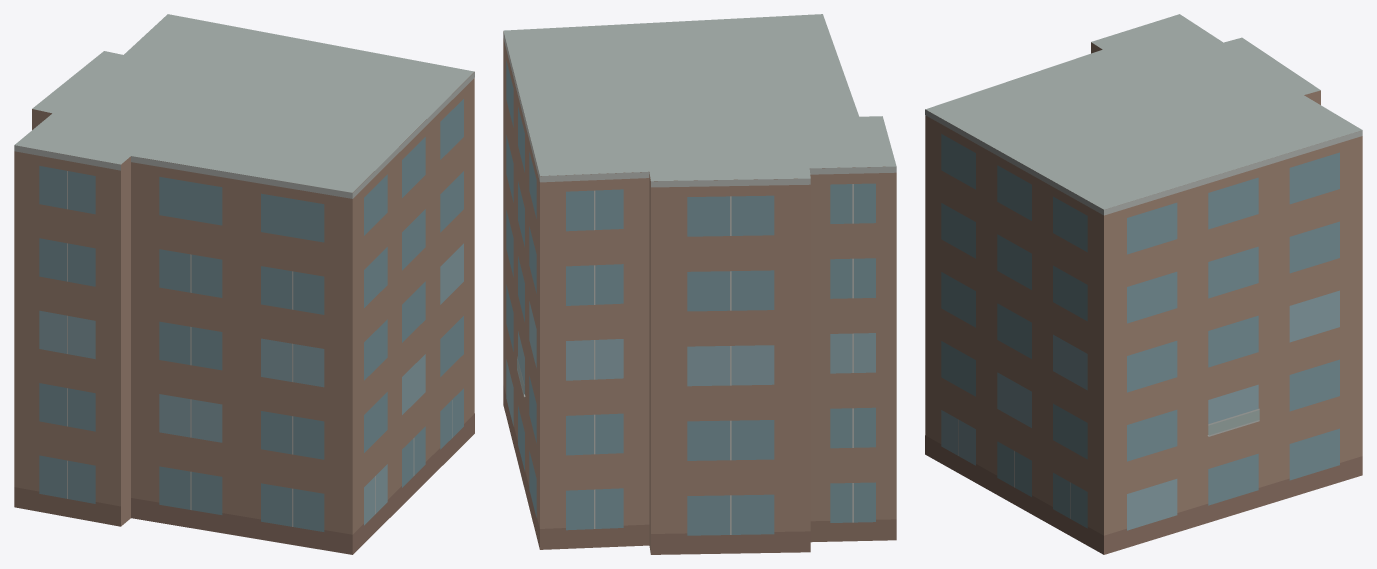
File: survey-upis-32819558.glb
3 renders of one model, left to right at view 1: azimuth 30°, elevation 25°; view 2: azimuth 150°, elevation 25°; view 3: azimuth 270°, elevation 25°, orthographic. The views are drawn at different scales.
Parts seen in each view (by area): view 1: survey-upis-32819558.tmp; view 2: survey-upis-32819558.tmp; view 3: survey-upis-32819558.tmp.
Part boxes in pixels (x1,y1,x2,y2): survey-upis-32819558.tmp: (14,14,474,554); survey-upis-32819558.tmp: (503,14,896,554); survey-upis-32819558.tmp: (925,14,1362,554).
Size of the model in its own units: 17.64 by 14.5 by 16.66.
